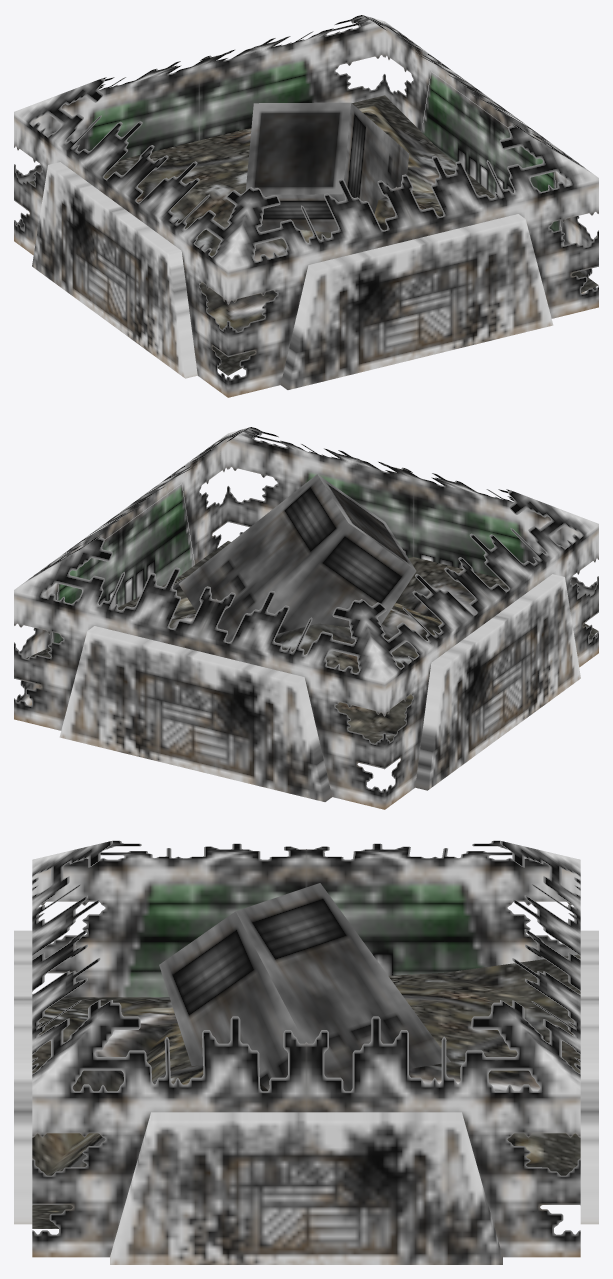
File: hub_dam.glb
3 views of the same model, one above another, from view 1: azimuth 30°, elevation 25°; view 2: azimuth 150°, elevation 25°; view 3: azimuth 270°, elevation 25° (orthographic). The views are drawn at different scales.
Visible parts, largest first — view 1: HubDam; view 2: HubDam; view 3: HubDam.
Part boxes in pixels (x1,y1,x2,y2): HubDam: [14, 15, 598, 397]; HubDam: [14, 427, 598, 809]; HubDam: [14, 840, 598, 1264].
Bounding box in the file's own units: 25.6 × 12.58 × 25.6.
2 materials, 2 textured.
